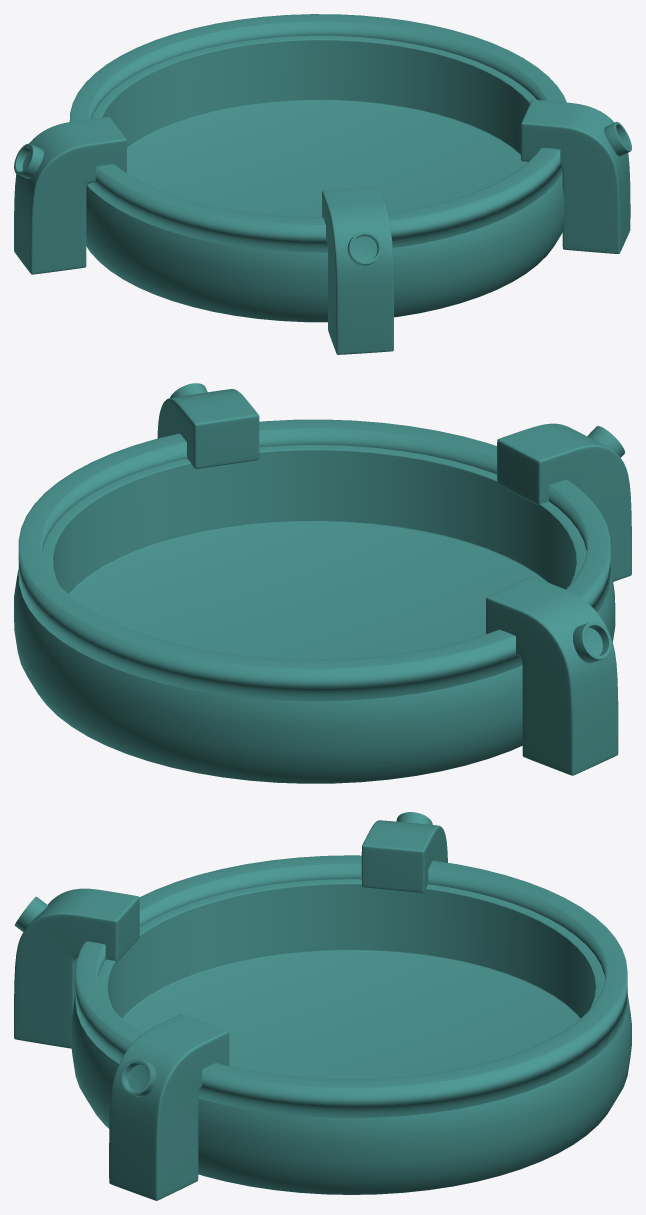
The model's file is BaseArvore.fbx.
3 renders of one model, top to bottom at view 1: azimuth 30°, elevation 25°; view 2: azimuth 150°, elevation 25°; view 3: azimuth 270°, elevation 25°, orthographic. The views are drawn at different scales.
Visible parts, largest first — view 1: Cylinder, Cylinder.001, Cube.001, Cube.002, Cube, Cylinder.002, Cylinder.004, Cylinder.003; view 2: Cylinder, Cylinder.001, Cube.001, Cube, Cube.002, Cylinder.004; view 3: Cylinder, Cylinder.001, Cube.002, Cube, Cube.001, Cylinder.003.
Boxes of the visible parts, x1,y1,x2,y2 form: Cylinder: [86, 35, 564, 322]; Cylinder.001: [69, 14, 566, 252]; Cube.001: [14, 117, 126, 274]; Cube.002: [521, 100, 630, 253]; Cube: [322, 187, 393, 354]; Cylinder.002: [347, 231, 381, 265]; Cylinder.004: [14, 143, 43, 178]; Cylinder.003: [604, 121, 631, 156]; Cylinder: [14, 445, 615, 783]; Cylinder.001: [18, 419, 610, 701]; Cube.001: [486, 576, 618, 775]; Cube: [497, 423, 631, 581]; Cube.002: [157, 389, 259, 468]; Cylinder.004: [573, 621, 611, 663]; Cylinder: [71, 879, 631, 1194]; Cylinder.001: [75, 855, 627, 1117]; Cube.002: [109, 1014, 229, 1200]; Cube: [14, 888, 139, 1048]; Cube.001: [361, 820, 447, 892]; Cylinder.003: [120, 1059, 156, 1097].
Bounding box in the file's own units: 593 × 141 × 580.
